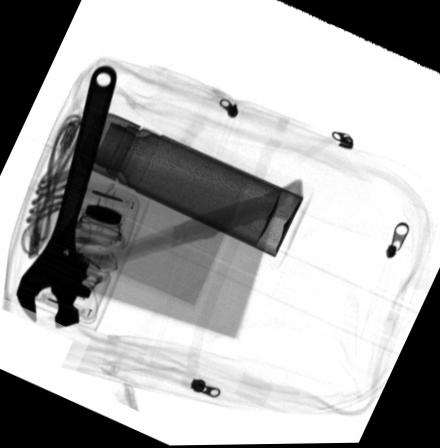Hammer: (49, 175, 302, 329)
Wrench: (16, 65, 116, 325)
